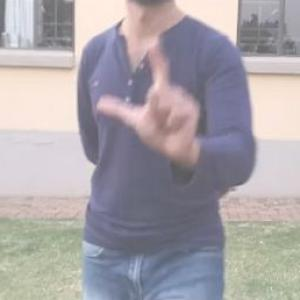land_hand: (93, 25, 214, 160)
